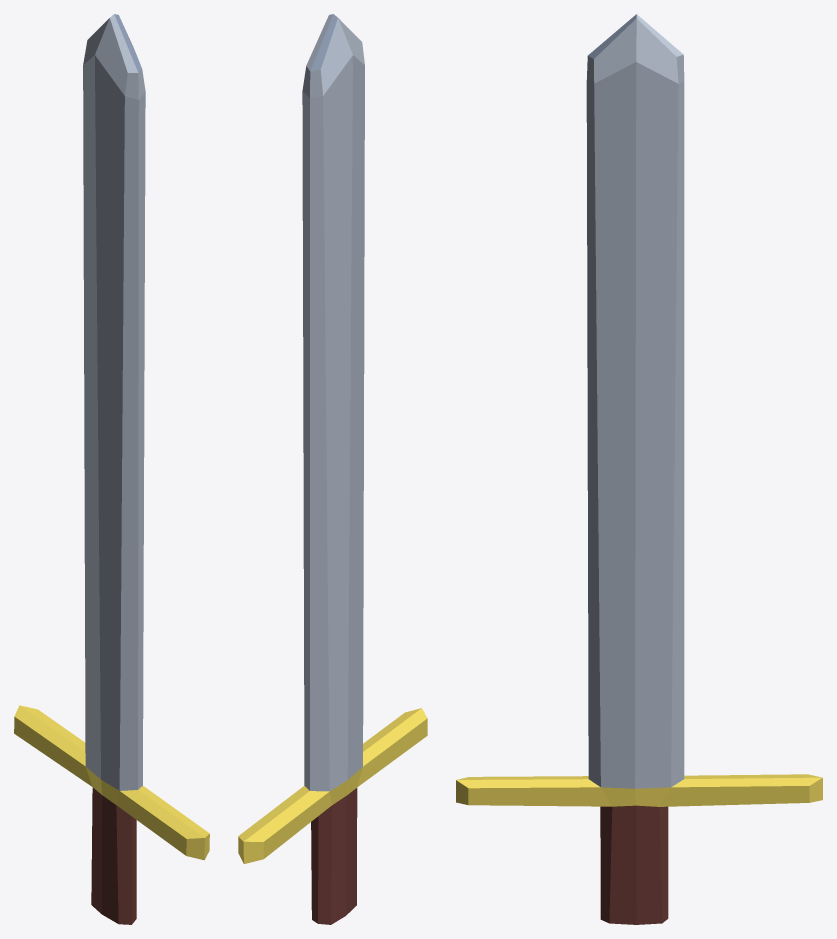
File: espada.fbx
3 renders of one model, left to right at view 1: azimuth 30°, elevation 25°; view 2: azimuth 150°, elevation 25°; view 3: azimuth 270°, elevation 25°, orthographic.
Parts seen in each view (by area): view 1: espada; view 2: espada; view 3: espada.
Boxes of the visible parts, <box> form: espada: <box>14,14,209,924</box>; espada: <box>238,14,427,924</box>; espada: <box>456,14,822,924</box>.
Bounding box in the file's own units: 4.63 × 103 × 37.82.
1 material, 1 textured.
